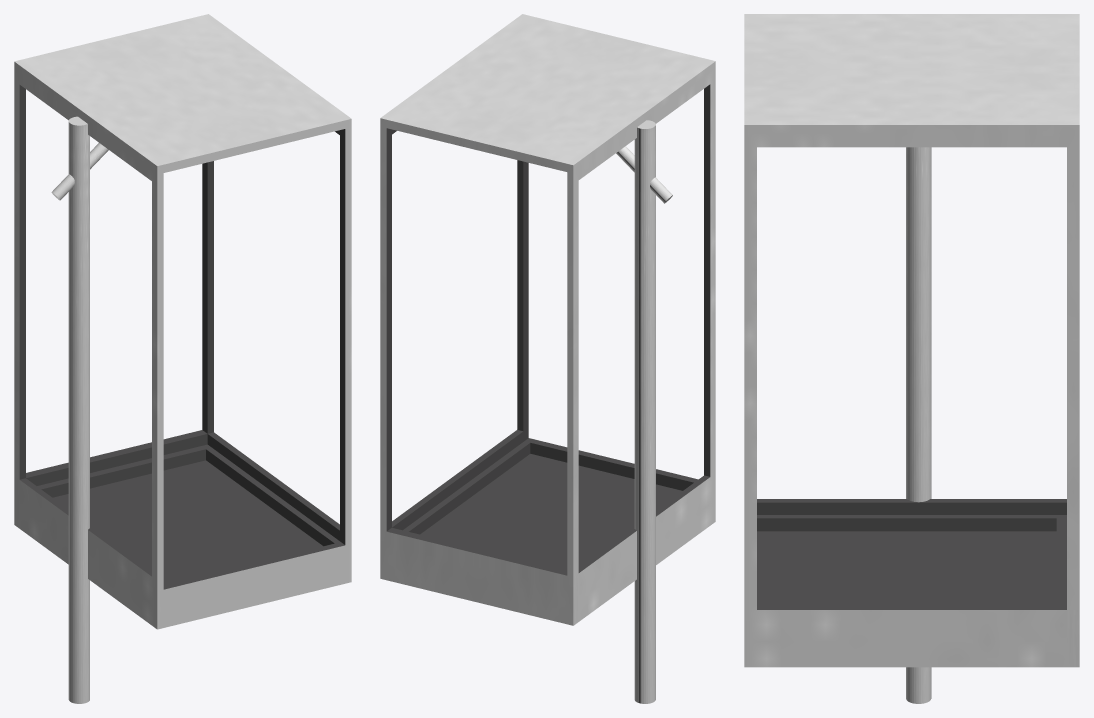
File: Bathroom_Shower.fbx
The picture shows the model from 3 angles, left to right: view 1: azimuth 30°, elevation 25°; view 2: azimuth 150°, elevation 25°; view 3: azimuth 270°, elevation 25°; orthographic projection. The views are drawn at different scales.
Visible parts, largest first — view 1: Bathroom_Shower; view 2: Bathroom_Shower; view 3: Bathroom_Shower.
Part boxes in pixels (x1,y1,x2,y2): Bathroom_Shower: (14,14,351,703); Bathroom_Shower: (380,14,715,703); Bathroom_Shower: (744,14,1079,703).
Size of the model in its own units: 101 by 253 by 112.
